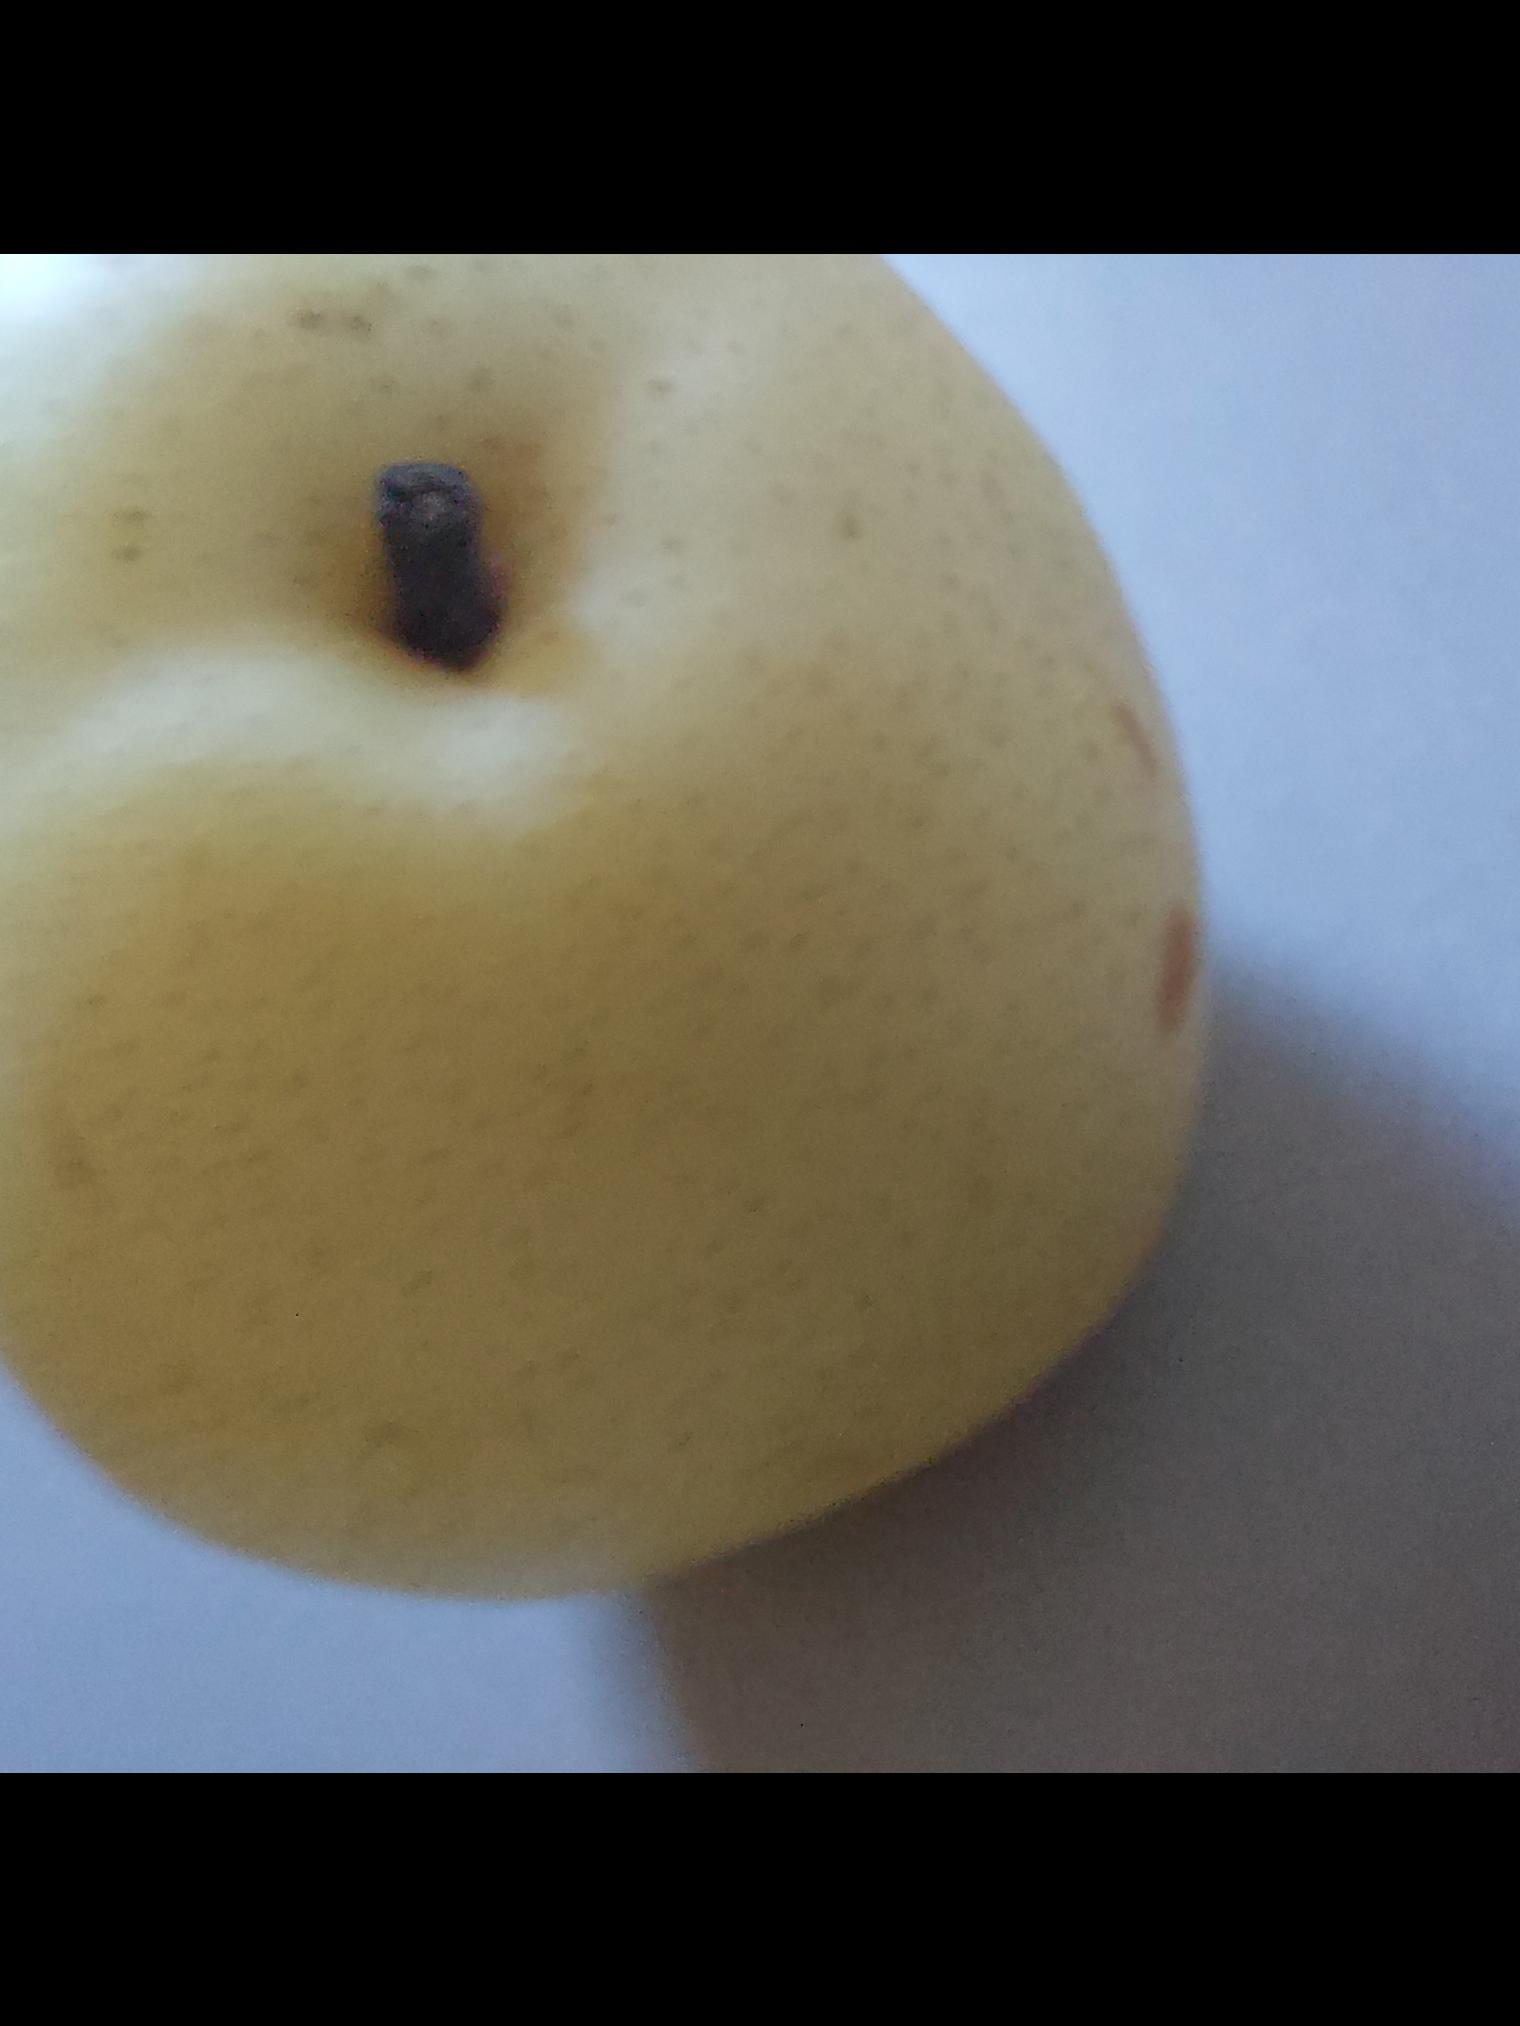Good Pear: (0, 252, 1213, 1608)
